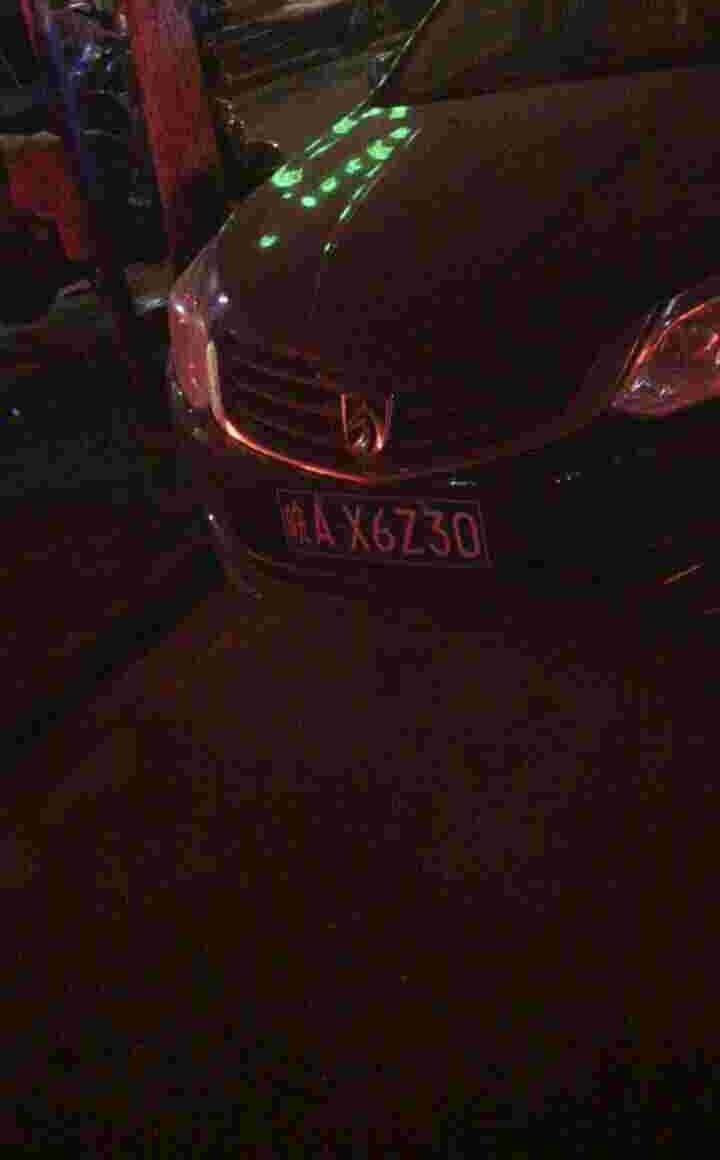license_plate: (258, 488, 480, 563)
